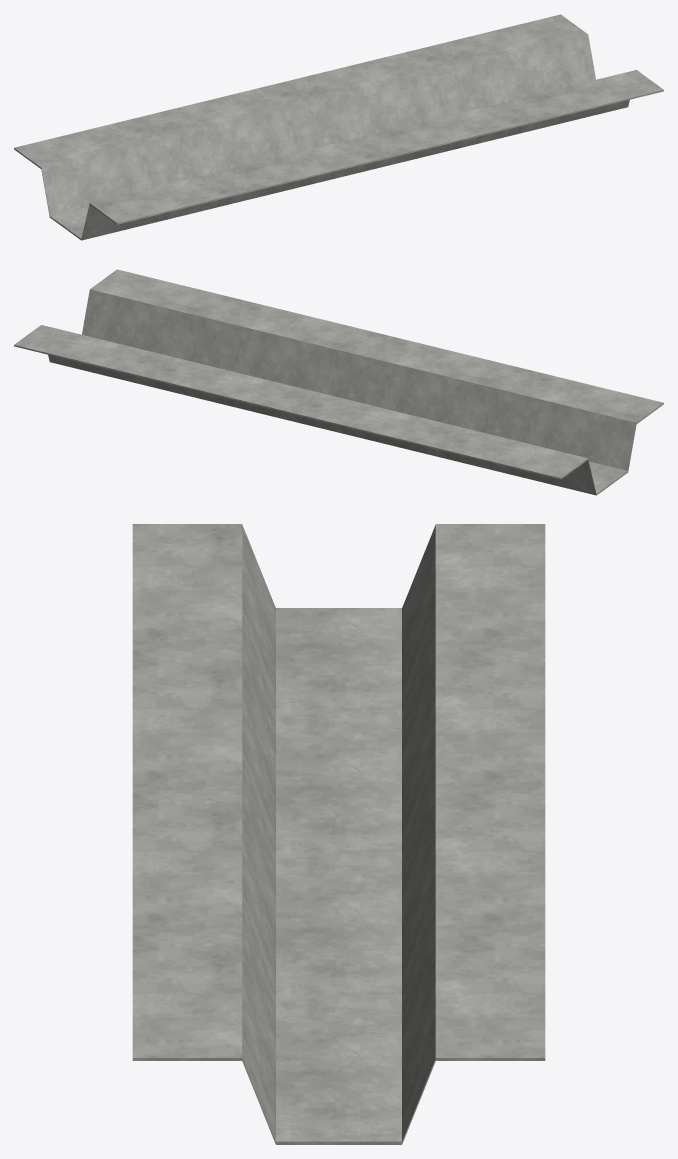
File: COB-FIB-004_lod1.glb
3 renders of one model, top to bottom at view 1: azimuth 30°, elevation 25°; view 2: azimuth 150°, elevation 25°; view 3: azimuth 270°, elevation 25°, orthographic. The views are drawn at different scales.
Visible parts, largest first — view 1: COB-FIB-004_chapa; view 2: COB-FIB-004_chapa; view 3: COB-FIB-004_chapa.
Part boxes in pixels (bbox=[...]): COB-FIB-004_chapa: bbox=[14, 14, 663, 240]; COB-FIB-004_chapa: bbox=[14, 269, 663, 495]; COB-FIB-004_chapa: bbox=[132, 524, 545, 1144].
Size of the model in its own units: 3 by 0.228 by 0.98.
1 material, 1 textured.
